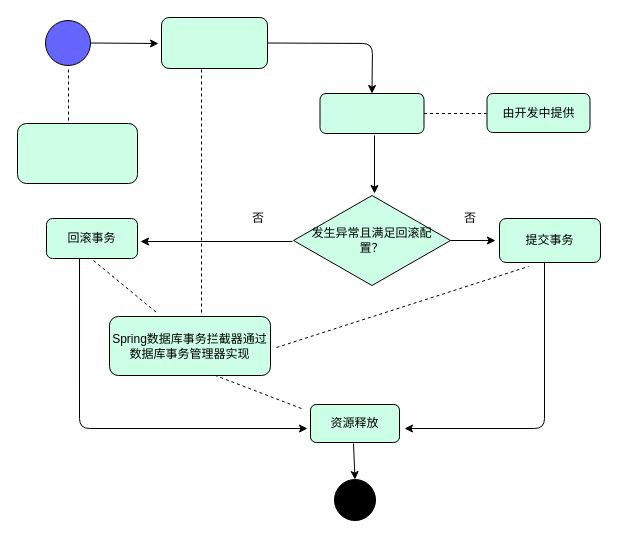
This 618x538 diagram has some shape labels left out. Each missing label, with the box of its shape:
Spring IoC启动时，解析和保存事务配置: (16, 122, 138, 184)
开启和设置事务: (160, 16, 268, 68)
执行方法逻辑: (319, 92, 424, 134)
